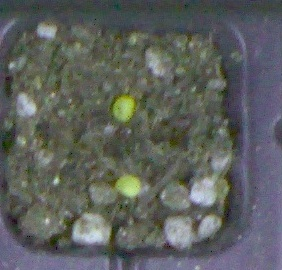chilli seed: (114, 173, 142, 198), (111, 95, 134, 122)
